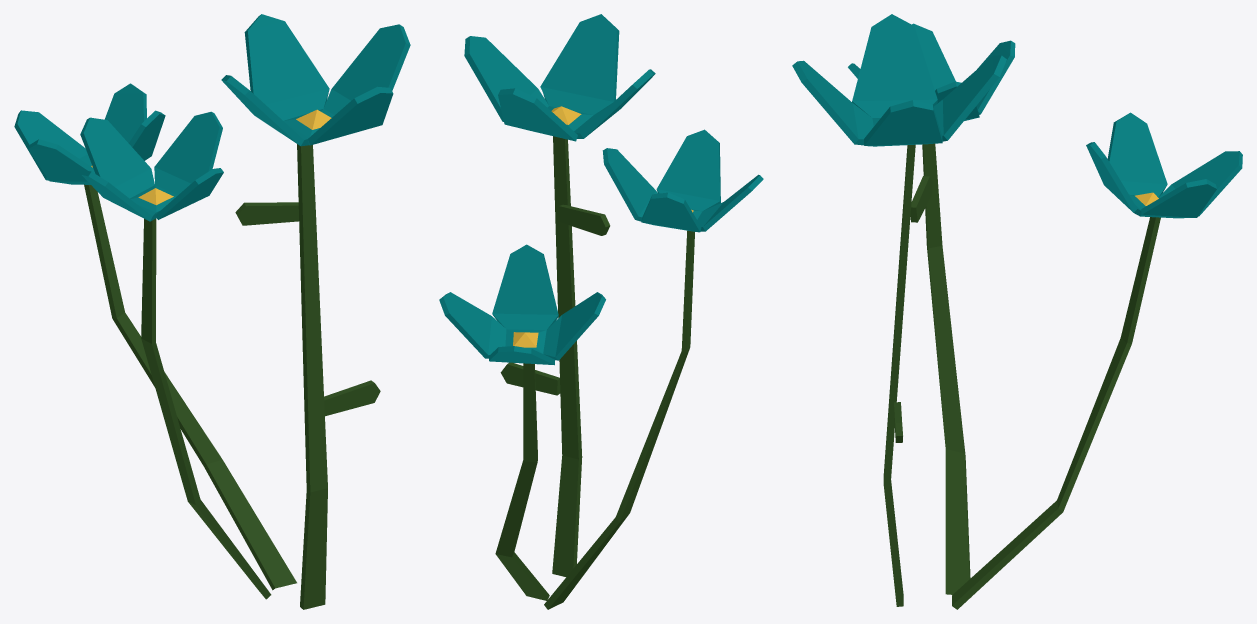
The model's file is Flowers.glb.
3 renders of one model, left to right at view 1: azimuth 30°, elevation 25°; view 2: azimuth 150°, elevation 25°; view 3: azimuth 270°, elevation 25°, orthographic. The views are drawn at different scales.
Parts seen in each view (by area): view 1: Flowers; view 2: Flowers; view 3: Flowers.
Part boxes in pixels (x1,y1,x2,y2): Flowers: (14,14,410,609); Flowers: (439,14,763,609); Flowers: (792,14,1242,609).
Bounding box in the file's own units: 48.95 × 82.89 × 61.37.
